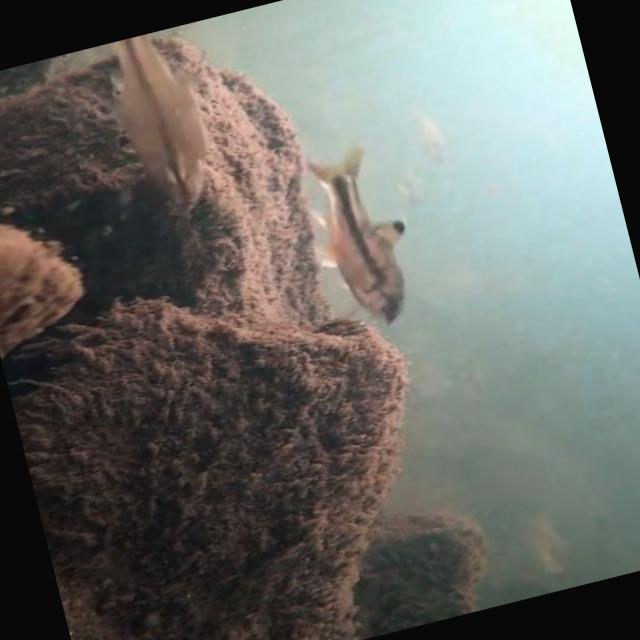Cakil Baligi: (298, 135, 433, 342)
